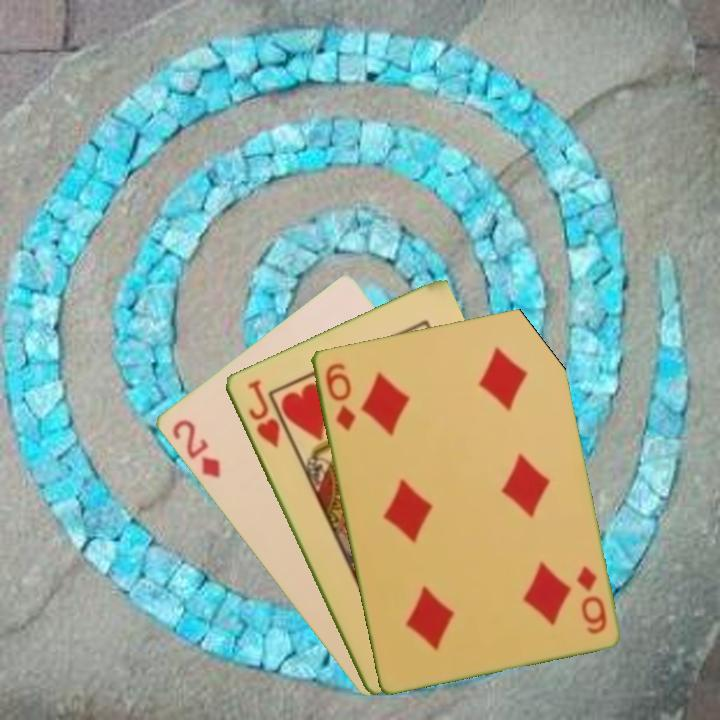2d: (168, 415, 223, 481)
6d: (321, 359, 358, 434), (572, 562, 609, 637)
Jh: (243, 376, 283, 451)
